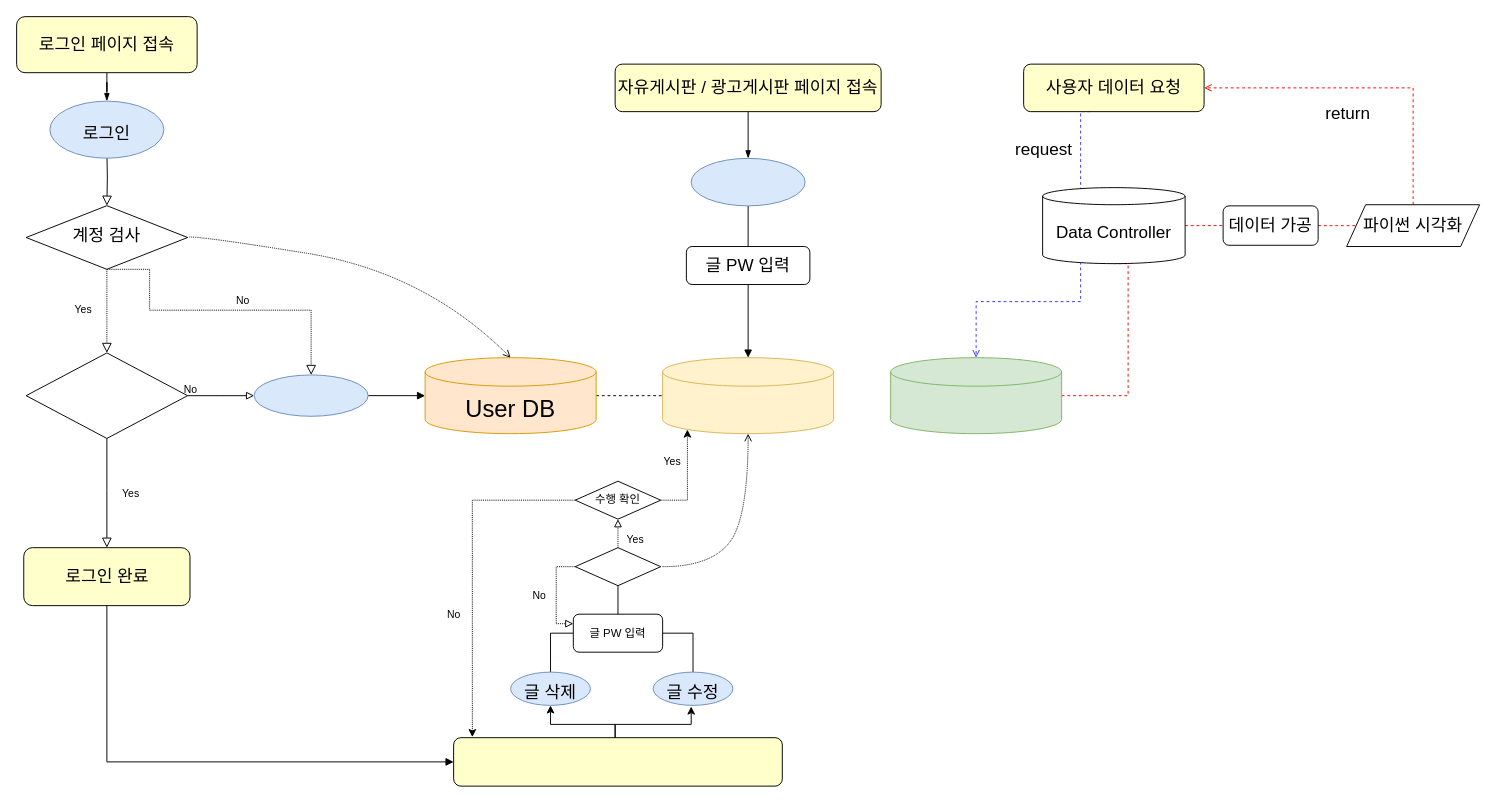
This 1496x803 diagram has some shape labels left out. The centre of each missing label's shape, as x and y in pixels:
"Board DB" belongs at point 748,395.
"Data DB" belongs at point 976,395.
"ID, PW 검사" belongs at point 106,395.
"글 PW 검사" belongs at point 617,566.
"글쓰기" belongs at point 747,181.
"마이페이지 - 내가 쓴 글목록" belongs at point 617,761.
"회원가입" belongs at point 310,395.
